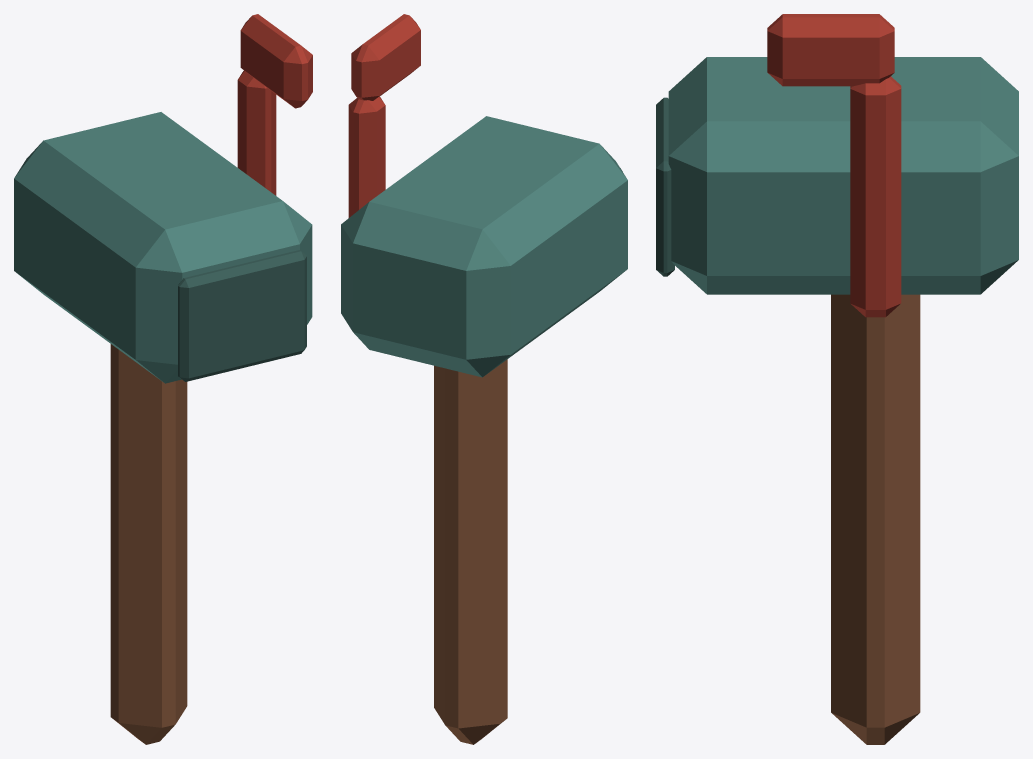
File: mailbox_up.glb
The picture shows the model from 3 angles, left to right: view 1: azimuth 30°, elevation 25°; view 2: azimuth 150°, elevation 25°; view 3: azimuth 270°, elevation 25°; orthographic projection. The views are drawn at different scales.
Visible parts, largest first — view 1: body; view 2: body; view 3: body.
Part boxes in pixels (x1,y1,x2,y2): body: (14,14,312,744); body: (341,14,627,744); body: (656,14,1018,744).
Bounding box in the file's own units: 0.43 × 1.36 × 0.57.
